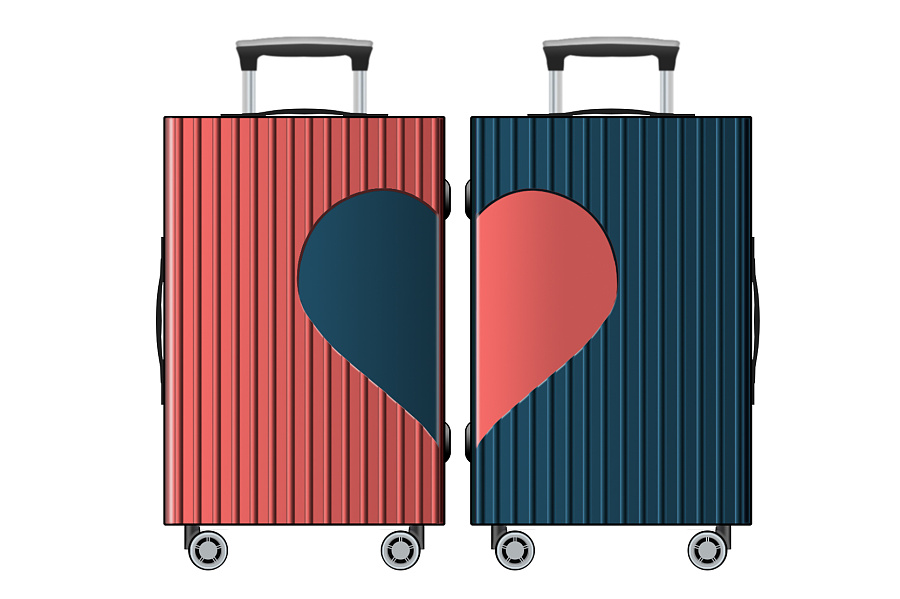suitcase: (154, 38, 452, 568), (463, 37, 761, 567)
